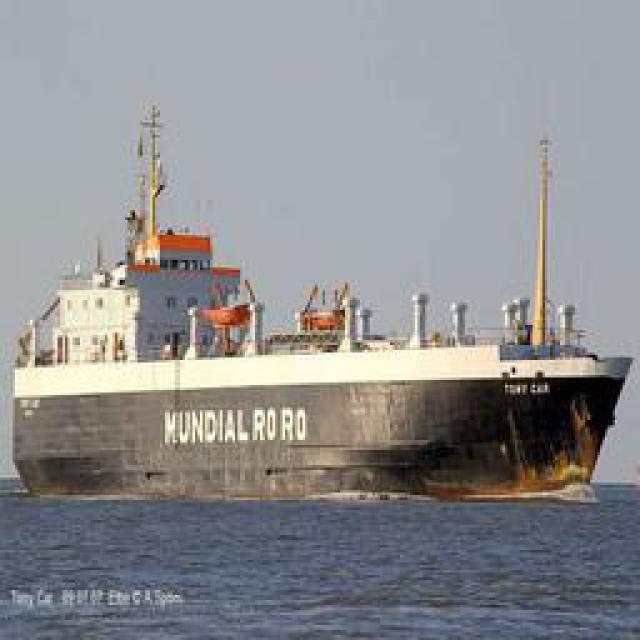Ship: (3, 314, 638, 499)
